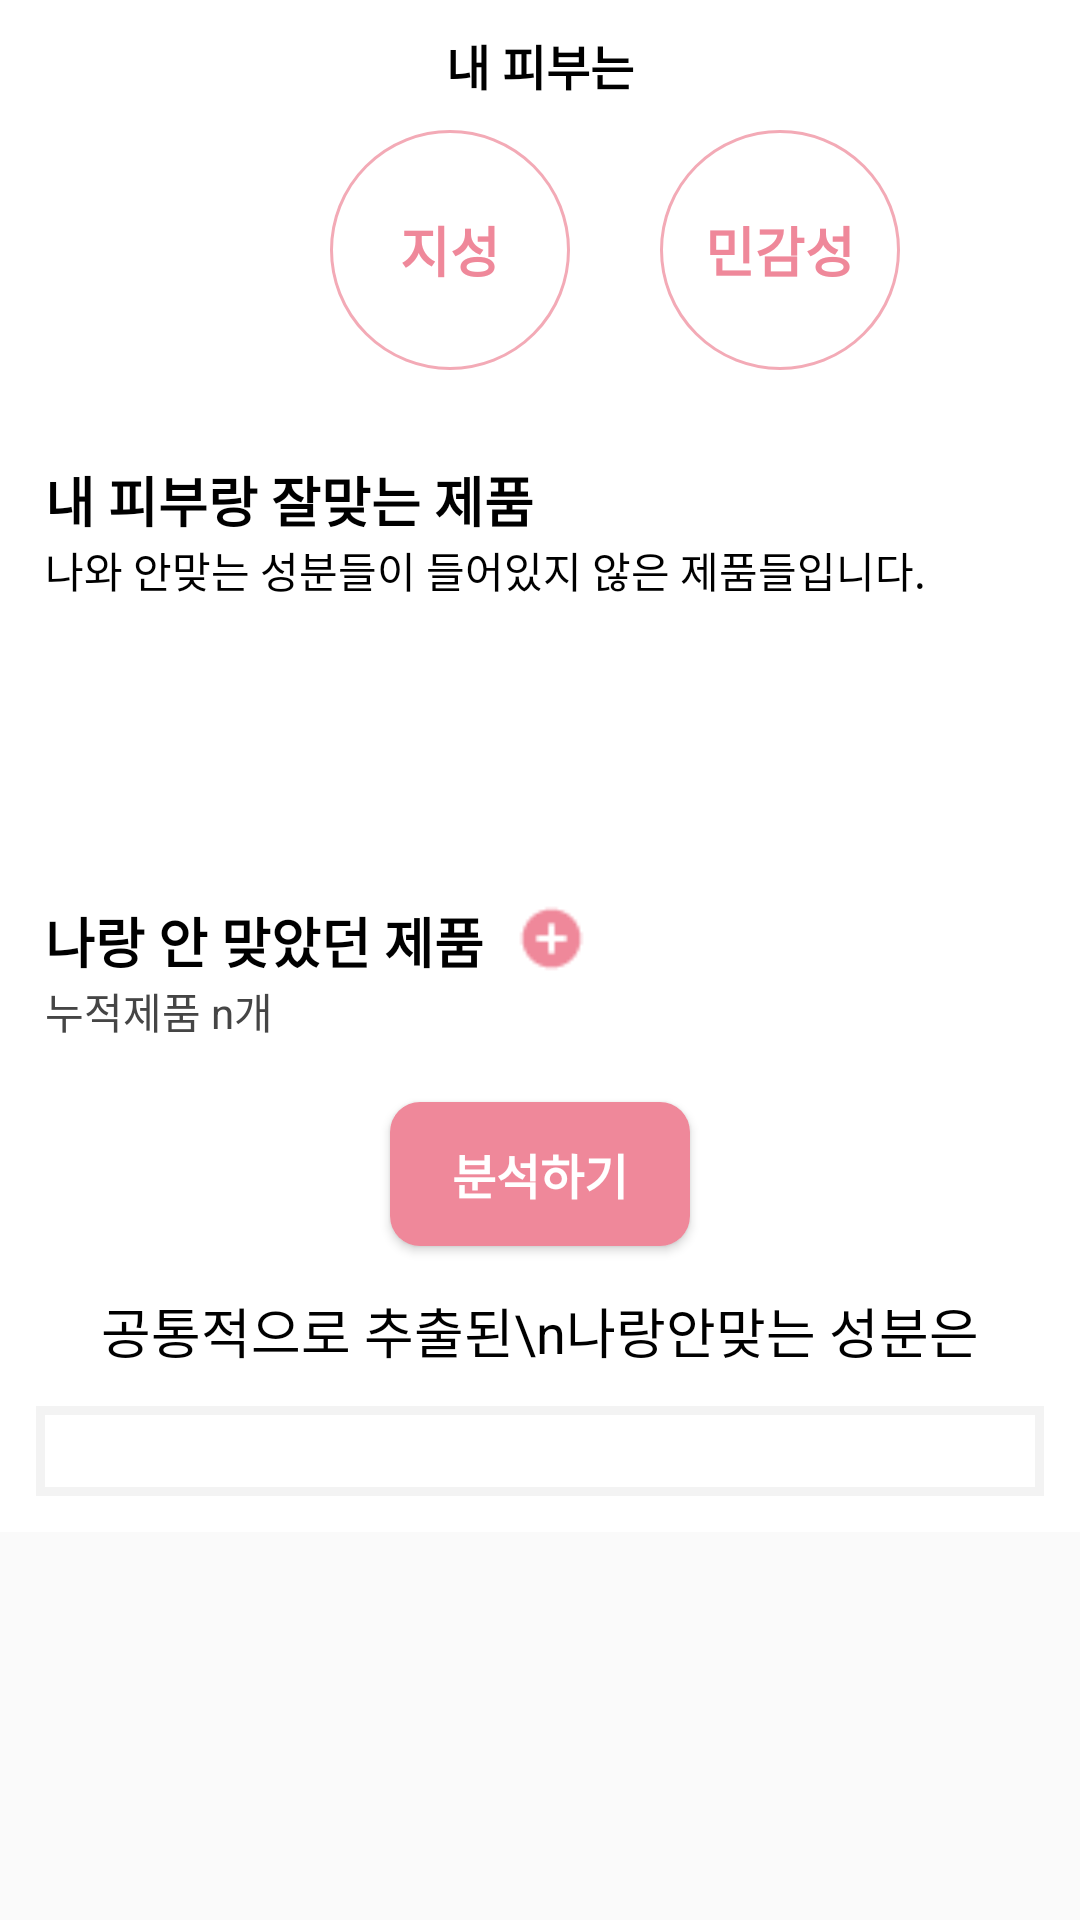

Icon bounding boxes for this 1080px×1920px phone screenshot, format (x1, y1, x2, y2):
add: (521, 908, 582, 969)
